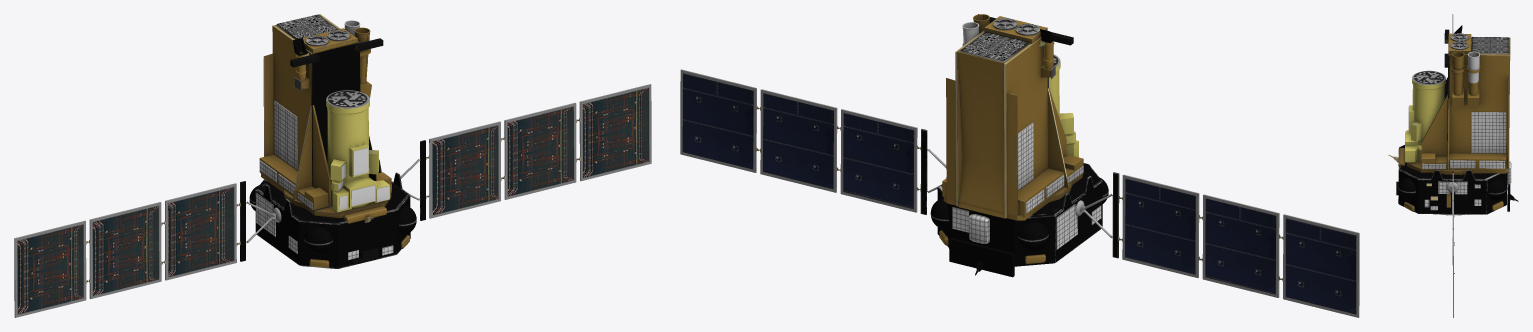
Rendered from sc_integral.glb.
The picture shows the model from 3 angles, left to right: view 1: azimuth 30°, elevation 25°; view 2: azimuth 150°, elevation 25°; view 3: azimuth 270°, elevation 25°; orthographic projection. The views are drawn at different scales.
Visible parts, largest first — view 1: integral_SM_Integral_initialShadingGroup; view 2: integral_SM_Integral_initialShadingGroup; view 3: integral_SM_Integral_initialShadingGroup.
Boxes of the visible parts, x1,y1,x2,y2 form: integral_SM_Integral_initialShadingGroup: (14, 14, 651, 317); integral_SM_Integral_initialShadingGroup: (680, 14, 1359, 317); integral_SM_Integral_initialShadingGroup: (1388, 14, 1518, 317).
Size of the model in its own units: 1.92 by 0.6061 by 0.4367.
Materials: 1 (1 with a texture image).
